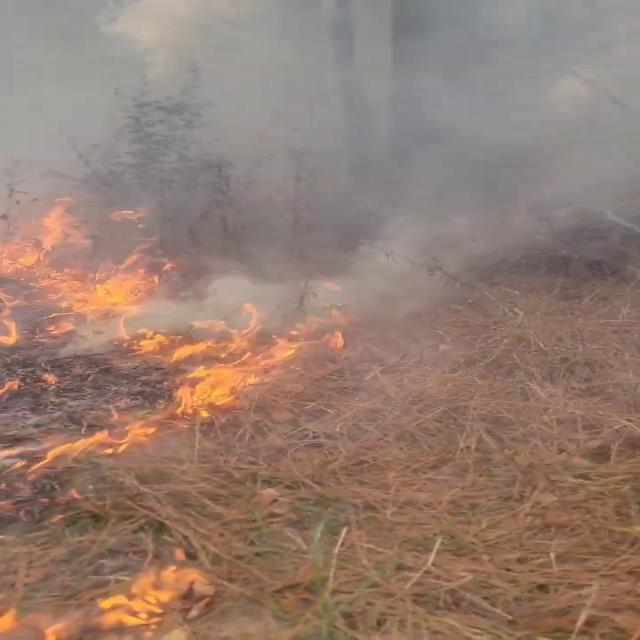Fire: (2, 198, 325, 490), (1, 553, 236, 640)
Smoke: (3, 0, 640, 294)
